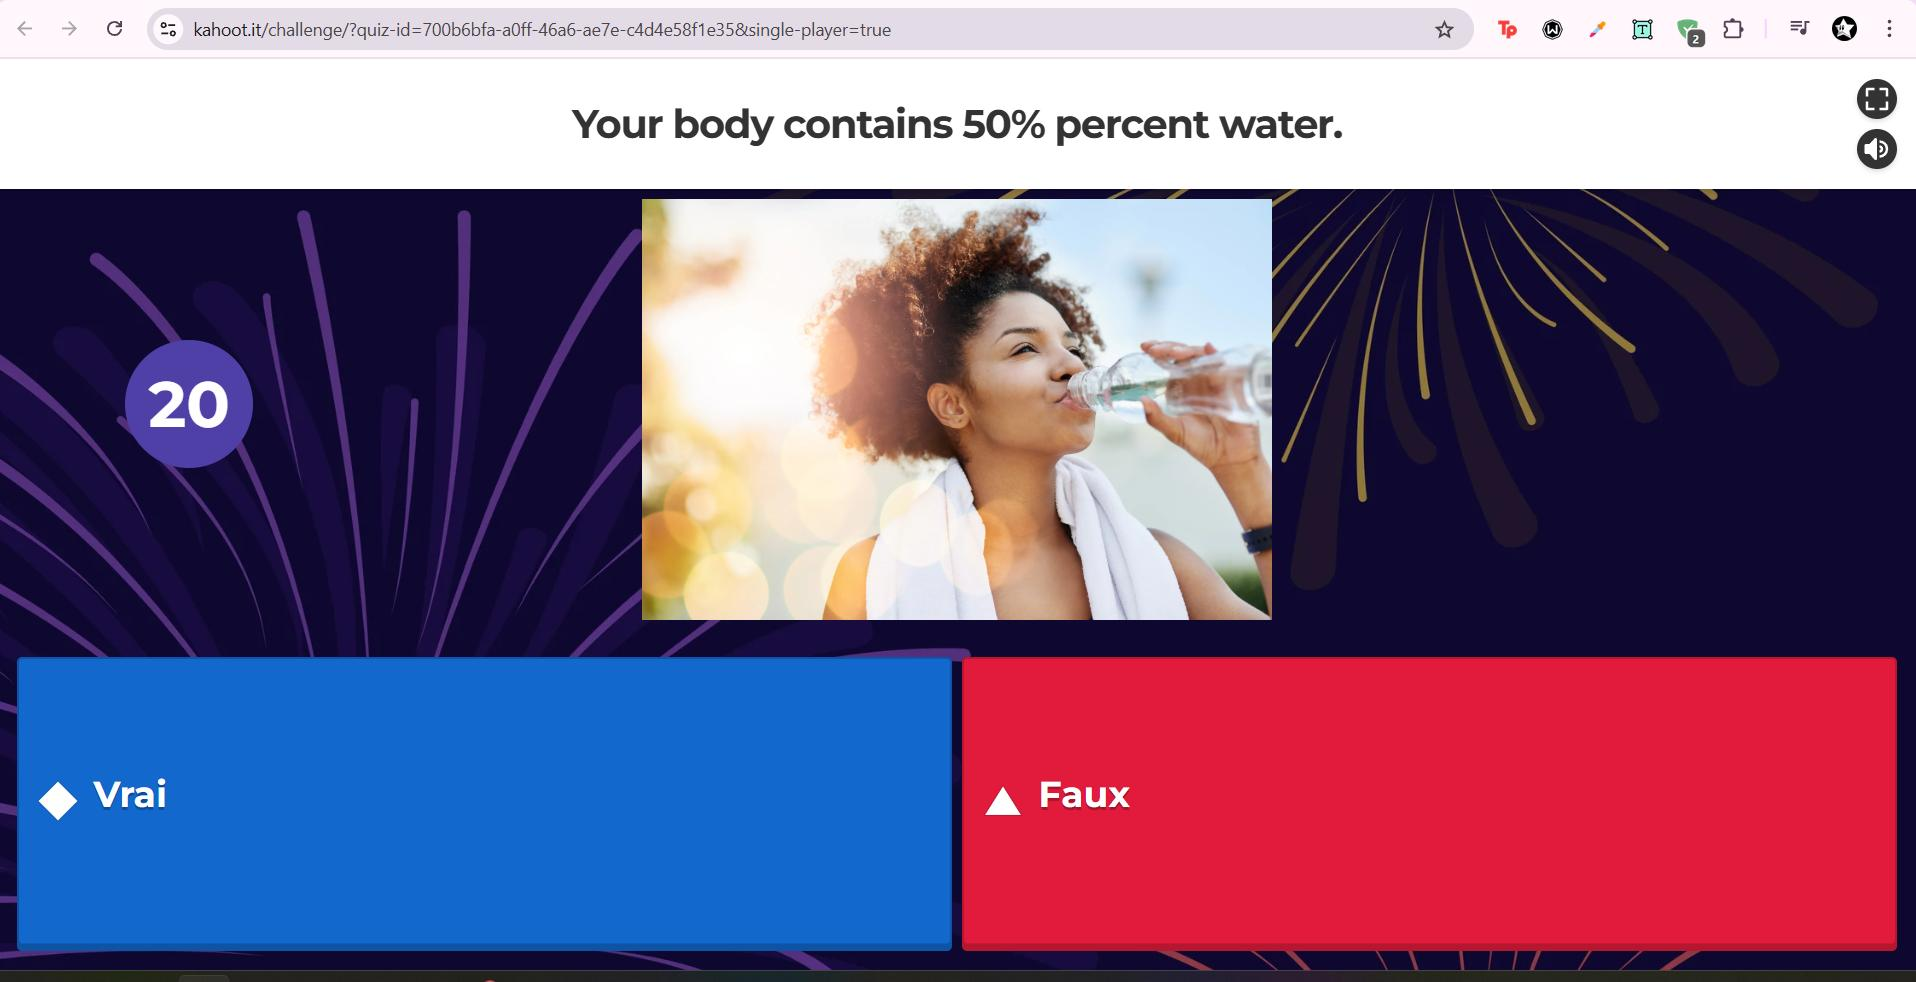answer_blue: (16, 660, 948, 951)
answer_red: (959, 660, 1895, 944)
question_box: (3, 65, 1845, 184)
